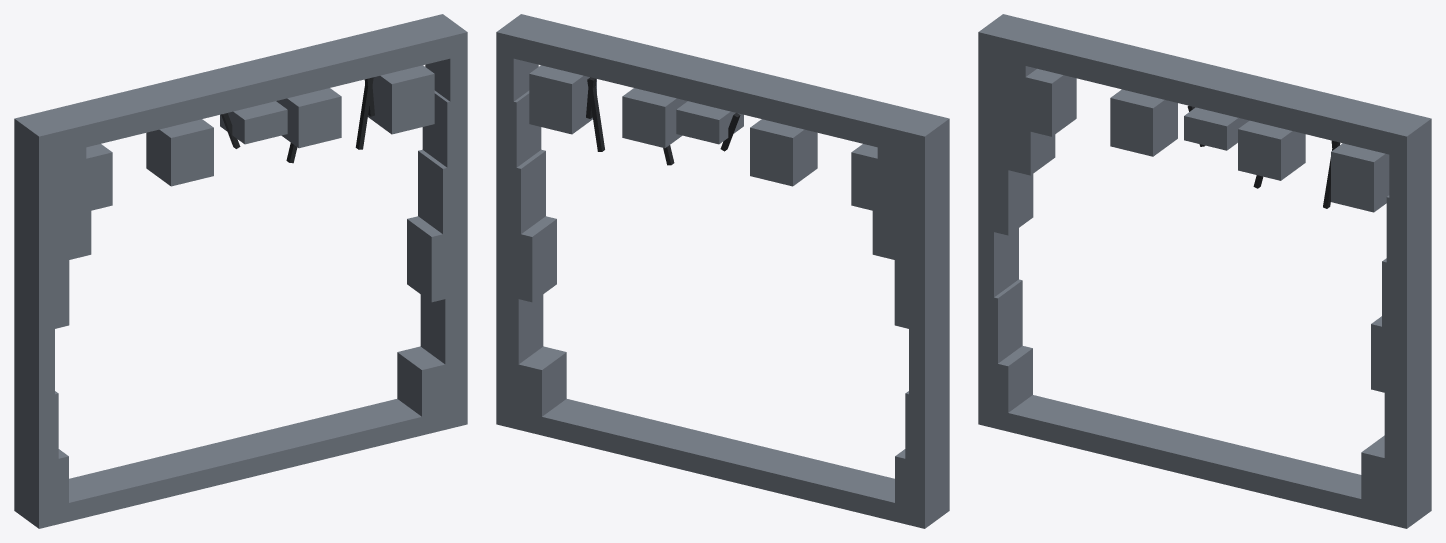
File: cw_holeo.glb
3 renders of one model, left to right at view 1: azimuth 30°, elevation 25°; view 2: azimuth 150°, elevation 25°; view 3: azimuth 330°, elevation 25°, orthographic.
Visible parts, largest first — view 1: city_cw_holeo; view 2: city_cw_holeo; view 3: city_cw_holeo.
Part boxes in pixels (box(x1,y1,x2,y2)): city_cw_holeo: box(14, 14, 467, 528); city_cw_holeo: box(496, 14, 949, 528); city_cw_holeo: box(978, 14, 1431, 528).
Bounding box in the file's own units: 4 × 3.5 × 0.4.
Materials: 2 (2 with a texture image).
